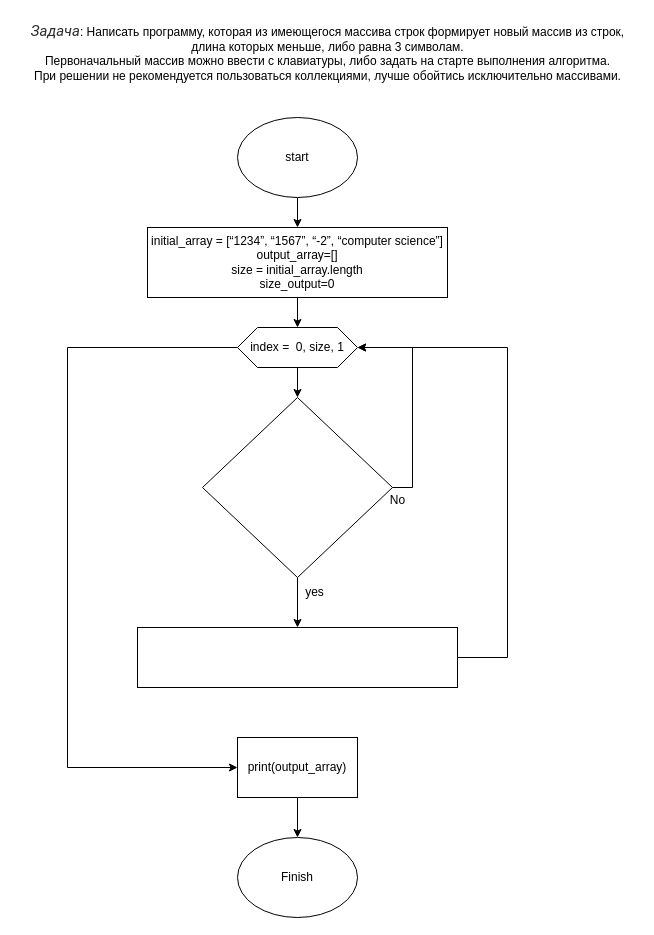
Some shapes in this 654 by 935 pixel diagram are drawn without their labels. Each missing label, with the centre of its shape:
initial_array[index].length <= 3: (x=297, y=487)
output_array[size_output] = initial_array[index] size_output = size_output + 1: (x=297, y=657)
